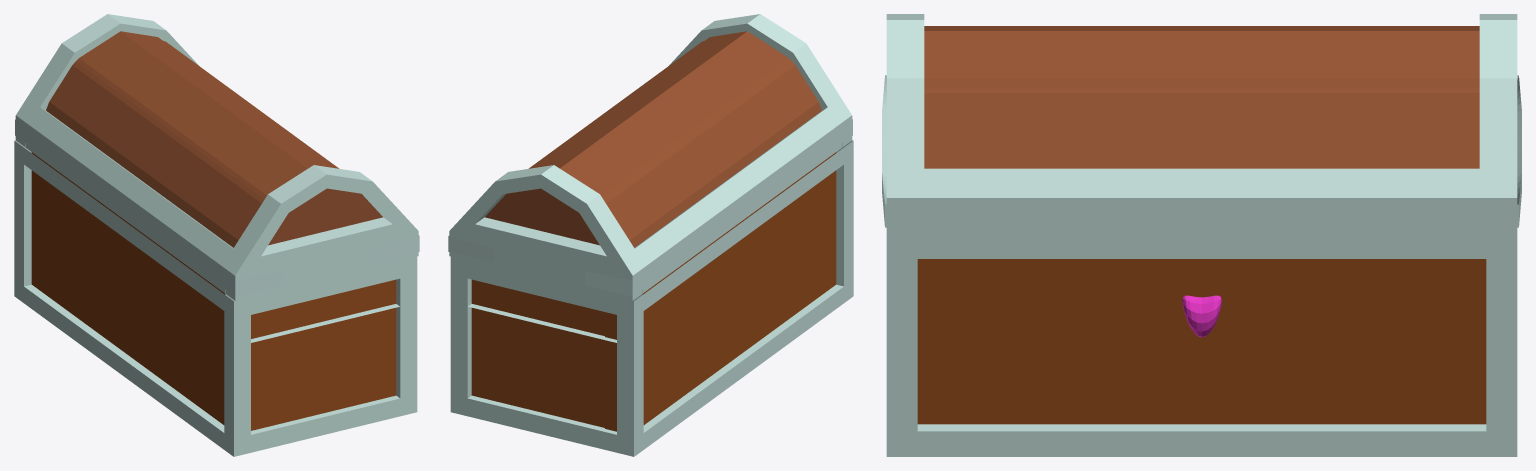
Rendered from Chest.fbx.
3 views of the same model, side by side, from view 1: azimuth 30°, elevation 25°; view 2: azimuth 150°, elevation 25°; view 3: azimuth 270°, elevation 25° (orthographic). The views are drawn at different scales.
Visible parts, largest first — view 1: Cube, Cube.001; view 2: Cube, Cube.001; view 3: Cube, Cube.001, Cube.002.
Part boxes in pixels (bbox=[...]): Cube: bbox=[14, 140, 417, 456]; Cube.001: bbox=[15, 14, 419, 300]; Cube: bbox=[450, 140, 853, 456]; Cube.001: bbox=[448, 14, 852, 300]; Cube: bbox=[886, 234, 1517, 456]; Cube.001: bbox=[882, 14, 1521, 233]; Cube.002: bbox=[1182, 295, 1221, 337].
Bounding box in the file's own units: 202 × 270 × 420.
